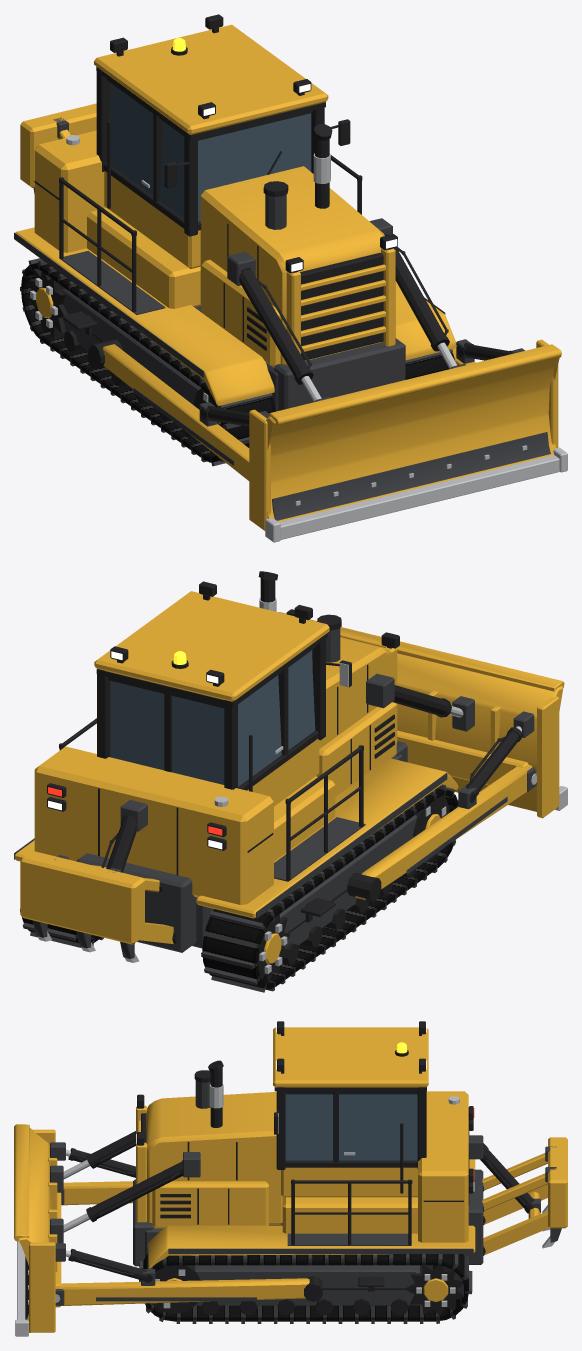
The model's file is dozer.glb.
3 renders of one model, top to bottom at view 1: azimuth 30°, elevation 25°; view 2: azimuth 150°, elevation 25°; view 3: azimuth 270°, elevation 25°, orthographic. The views are drawn at different scales.
Parts seen in each view (by area): view 1: Chassis_LOD0, Blade_LOD0, Cab_LOD0, RightTrack_LOD0, BladeArmPivot_LOD0, RipperCarriage_LOD0, LiftCylinderRight_LOD0, LiftCylinderLeft_LOD0, RightSprocket_LOD0, LeftTrack_LOD0, PitchCylinderRight_LOD0; view 2: Chassis_LOD0, Cab_LOD0, Blade_LOD0, RightTrack_LOD0, RipperCarriage_LOD0, BladeArmPivot_LOD0, RightSprocket_LOD0, PitchCylinderRight_LOD0, RipperCylinder_LOD0, LiftCylinderRight_LOD0, RightIdler_LOD0, LeftTrack_LOD0 (+1 smaller); view 3: Chassis_LOD0, Cab_LOD0, LeftTrack_LOD0, Blade_LOD0, BladeArmPivot_LOD0, RipperCarriage_LOD0, Ripper_LOD0, LeftSprocket_LOD0, LiftCylinderLeft_LOD0, RipperUpperLink_LOD0, LeftIdler_LOD0, PitchCylinderLeft_LOD0 (+3 smaller).
Boxes of the visible parts, <box> form: Chassis_LOD0: <box>14,121,456,411</box>; Blade_LOD0: <box>249,339,567,542</box>; Cab_LOD0: <box>94,14,350,268</box>; RightTrack_LOD0: <box>20,258,276,466</box>; BladeArmPivot_LOD0: <box>89,339,475,480</box>; RipperCarriage_LOD0: <box>20,103,96,193</box>; LiftCylinderRight_LOD0: <box>239,267,313,384</box>; LiftCylinderLeft_LOD0: <box>384,233,449,351</box>; RightSprocket_LOD0: <box>28,269,68,339</box>; LeftTrack_LOD0: <box>405,349,454,379</box>; PitchCylinderRight_LOD0: <box>200,405,249,426</box>; Chassis_LOD0: <box>14,571,458,952</box>; Cab_LOD0: <box>94,581,351,806</box>; Blade_LOD0: <box>279,612,567,818</box>; RightTrack_LOD0: <box>201,784,458,992</box>; RipperCarriage_LOD0: <box>20,851,144,962</box>; BladeArmPivot_LOD0: <box>347,765,536,901</box>; RightSprocket_LOD0: <box>258,914,290,982</box>; PitchCylinderRight_LOD0: <box>466,727,522,802</box>; RipperCylinder_LOD0: <box>101,815,137,872</box>; LiftCylinderRight_LOD0: <box>393,685,451,717</box>; RightIdler_LOD0: <box>413,795,449,862</box>; LeftTrack_LOD0: <box>20,909,103,947</box>; Chassis_LOD0: <box>133,1060,483,1291</box>; Cab_LOD0: <box>273,1021,428,1197</box>; LeftTrack_LOD0: <box>139,1249,472,1323</box>; Blade_LOD0: <box>14,1124,65,1336</box>; BladeArmPivot_LOD0: <box>55,1181,322,1306</box>; RipperCarriage_LOD0: <box>542,1137,567,1248</box>; Ripper_LOD0: <box>483,1184,549,1255</box>; LeftSprocket_LOD0: <box>405,1265,463,1315</box>; LiftCylinderLeft_LOD0: <box>86,1160,182,1221</box>; RipperUpperLink_LOD0: <box>482,1153,547,1211</box>; LeftIdler_LOD0: <box>152,1265,200,1314</box>; PitchCylinderLeft_LOD0: <box>68,1249,152,1282</box>.
Bounding box in the file's own units: 3.4 × 3.23 × 6.88.
Materials: 10 (1 with a texture image).
